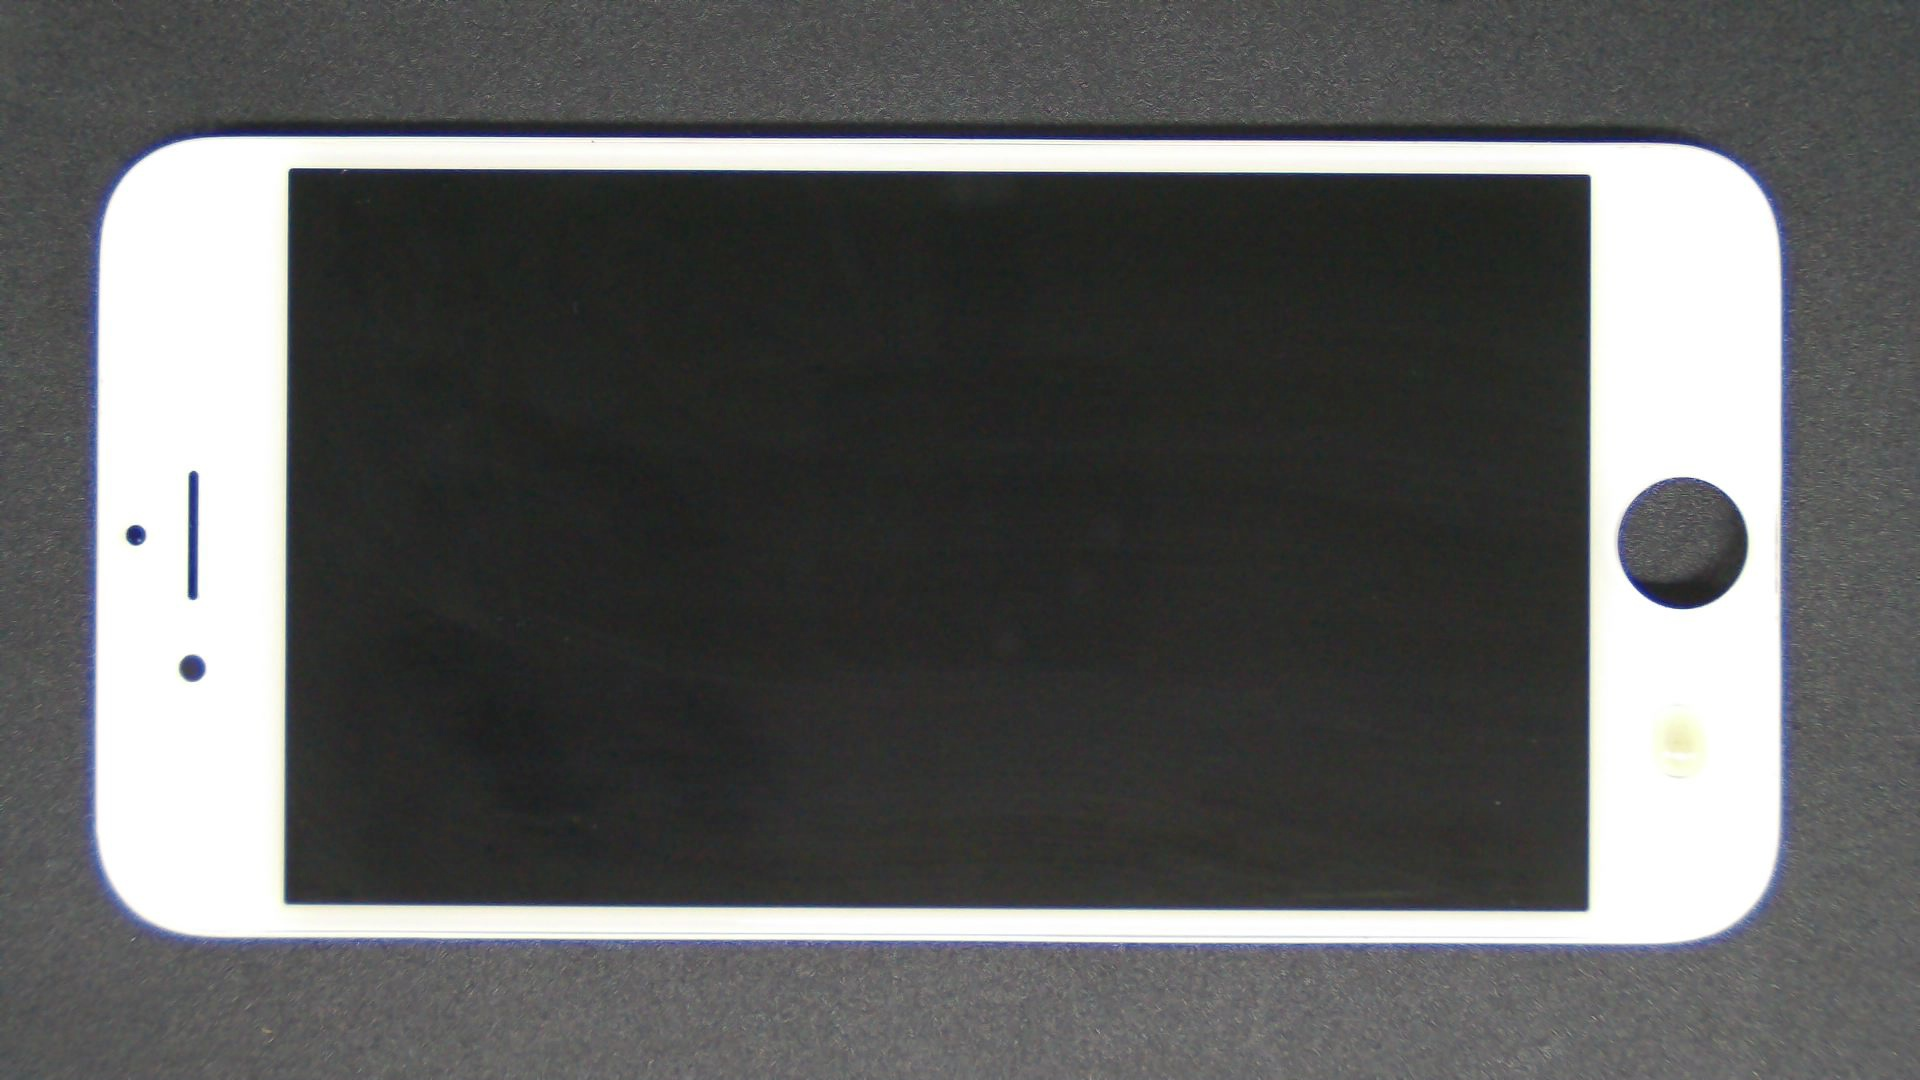oil: (836, 352, 1920, 1056)
